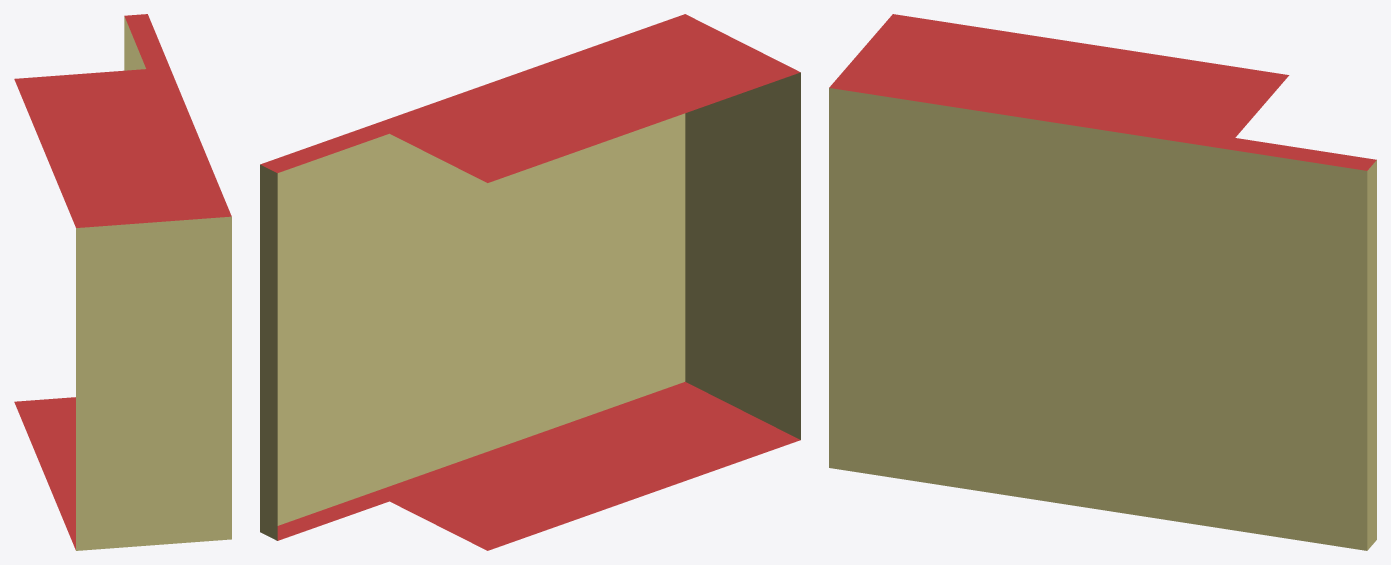
3 renders of one model, left to right at view 1: azimuth 30°, elevation 25°; view 2: azimuth 150°, elevation 25°; view 3: azimuth 270°, elevation 25°, orthographic. The views are drawn at different scales.
Bounding box in the file's own units: 6.59 × 9.72 × 7.44.
